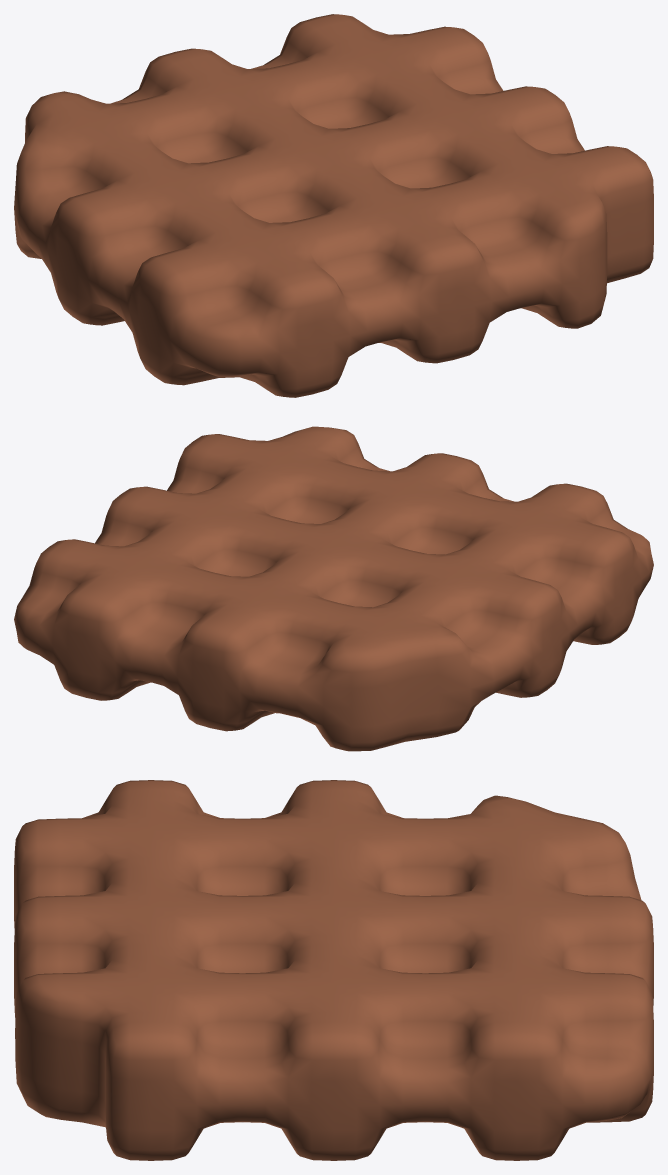
The model's file is Waffle_02.fbx.
3 views of the same model, one above another, from view 1: azimuth 30°, elevation 25°; view 2: azimuth 150°, elevation 25°; view 3: azimuth 270°, elevation 25° (orthographic). The views are drawn at different scales.
Visible parts, largest first — view 1: Waffle_02_LOD0; view 2: Waffle_02_LOD0; view 3: Waffle_02_LOD0.
Part boxes in pixels (x1,y1,x2,y2): Waffle_02_LOD0: (14,14,653,397); Waffle_02_LOD0: (14,426,653,751); Waffle_02_LOD0: (14,780,653,1160).
Size of what is drawn, in the model's own units: 558 by 124 by 558.
